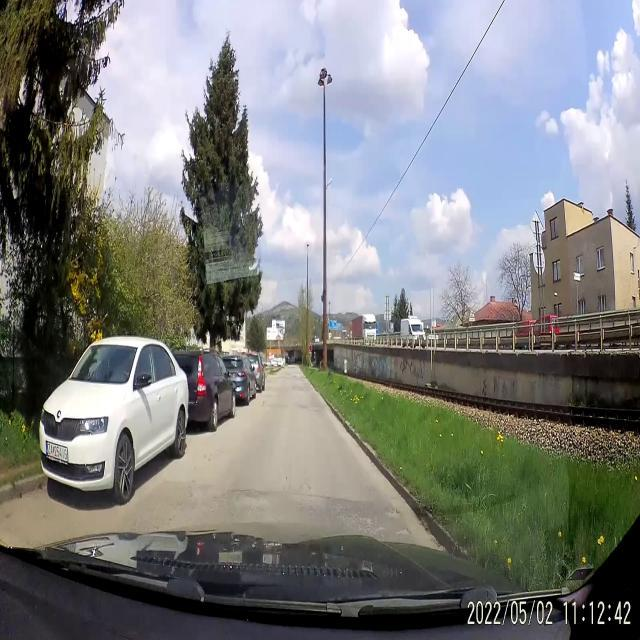Pothole: (338, 498, 384, 540), (388, 519, 418, 545), (382, 502, 404, 526)
